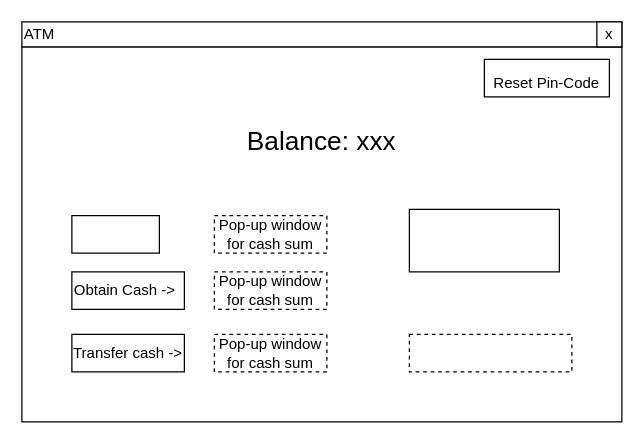
Image size: 644x444. Some labels were removed from this diagram. Each missing label, with the centre of its shape:
"Change backup card" goes at [483,240].
"Pop-up window for credit card number" goes at [490,352].
"Put Cash ->" goes at [115,233].
